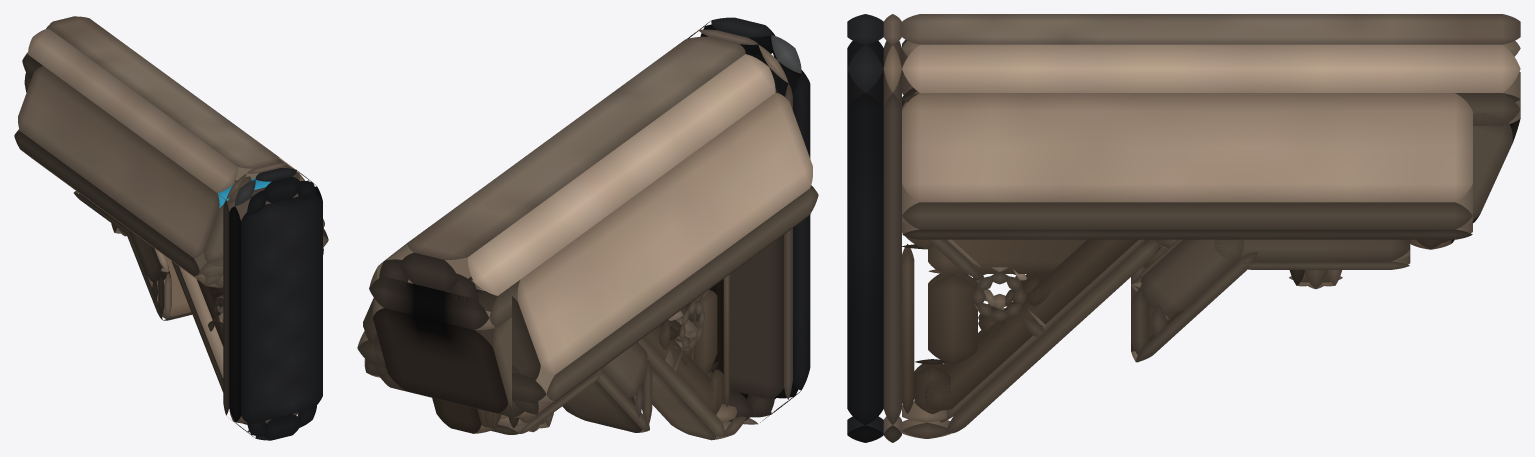
The model's file is udp_9_stock_heavy.fbx.
3 views of the same model, side by side, from view 1: azimuth 30°, elevation 25°; view 2: azimuth 150°, elevation 25°; view 3: azimuth 270°, elevation 25° (orthographic). The views are drawn at different scales.
Visible parts, largest first — view 1: cube_26, octagon_9, octagon_31, octagon_13, octagon_7, cube_15, cube, cube_6, octagon_33, cube_12, octagon_36, octagon_32 (+5 smaller); view 2: octagon_9, octagon_13, octagon_31, octagon_19, cube, octagon_7, octagon_15, cube_26, cube_15, cube_6, cube_4, cube_21 (+15 smaller); view 3: octagon_11, octagon_14, octagon_13, octagon_7, cube_26, cube_4, cube, octagon_12, cube_15, cube_7, cube_21, cube_8 (+12 smaller).
Boxes of the visible parts, left/top/right/bottom form: cube_26: left=229, top=186, right=322, bottom=423; octagon_9: left=18, top=66, right=223, bottom=266; octagon_31: left=28, top=28, right=251, bottom=200; octagon_13: left=46, top=16, right=278, bottom=168; octagon_7: left=14, top=129, right=328, bottom=277; cube_15: left=171, top=261, right=223, bottom=392; cube: left=223, top=180, right=308, bottom=415; cube_6: left=124, top=227, right=192, bottom=320; octagon_33: left=255, top=168, right=302, bottom=202; cube_12: left=130, top=231, right=168, bottom=282; octagon_36: left=255, top=414, right=302, bottom=440; octagon_32: left=235, top=180, right=267, bottom=215; octagon_9: left=474, top=91, right=812, bottom=386; octagon_13: left=399, top=36, right=745, bottom=291; octagon_31: left=449, top=54, right=775, bottom=309; octagon_19: left=372, top=289, right=511, bottom=413; cube: left=679, top=83, right=792, bottom=399; octagon_7: left=357, top=185, right=818, bottom=403; octagon_15: left=369, top=257, right=520, bottom=330; cube_26: left=745, top=51, right=810, bottom=390; cube_15: left=638, top=337, right=724, bottom=440; cube_6: left=562, top=369, right=649, bottom=432; cube_4: left=644, top=325, right=718, bottom=412; cube_21: left=682, top=285, right=717, bottom=375; octagon_11: left=902, top=91, right=1472, bottom=202; octagon_14: left=902, top=44, right=1520, bottom=101; octagon_13: left=902, top=14, right=1520, bottom=44; octagon_7: left=902, top=202, right=1472, bottom=229; cube_26: left=847, top=40, right=883, bottom=425; cube_4: left=924, top=239, right=1138, bottom=410; cube: left=883, top=41, right=901, bottom=424; octagon_12: left=902, top=184, right=1472, bottom=239; cube_15: left=940, top=239, right=1161, bottom=433; cube_7: left=1131, top=239, right=1243, bottom=319; cube_21: left=928, top=273, right=977, bottom=364; cube_8: left=1214, top=239, right=1410, bottom=261.
Bounding box in the file's own units: 19.68 × 37.73 × 57.81.
1 material, 1 textured.
